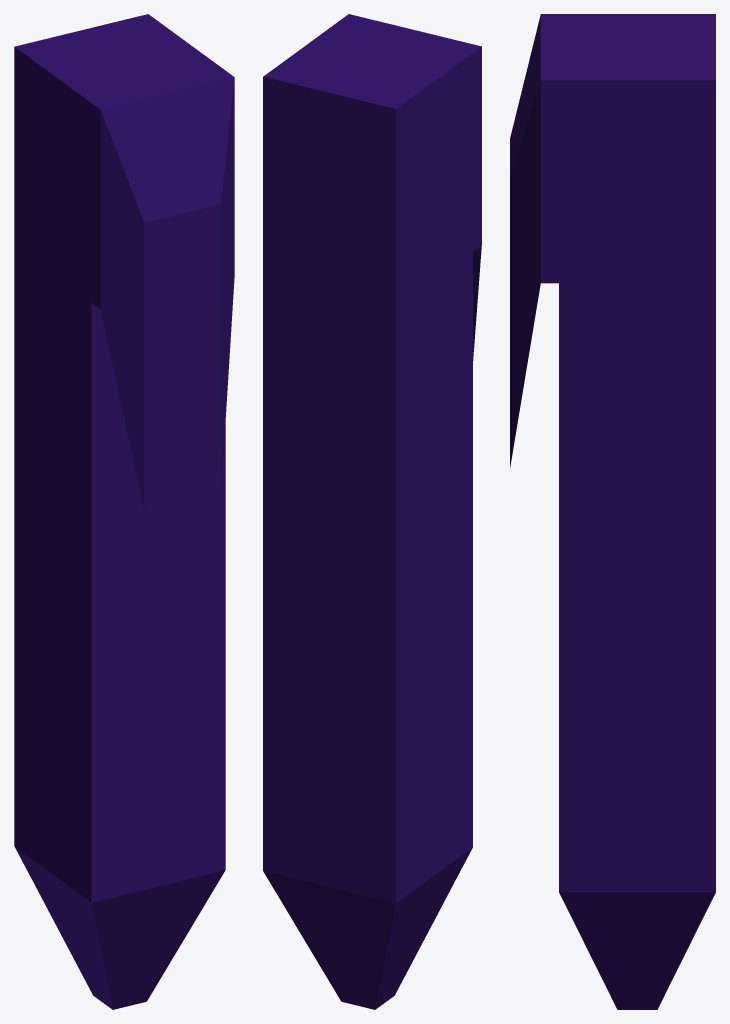
The model's file is Pen.glb.
The picture shows the model from 3 angles, left to right: view 1: azimuth 30°, elevation 25°; view 2: azimuth 150°, elevation 25°; view 3: azimuth 270°, elevation 25°; orthographic projection. The views are drawn at different scales.
Parts seen in each view (by area): view 1: Cube; view 2: Cube; view 3: Cube.
Part boxes in pixels (x1,y1,x2,y2): Cube: (14, 14, 234, 1009); Cube: (263, 14, 481, 1009); Cube: (510, 14, 715, 1009).
Bounding box in the file's own units: 0.085 × 0.5701 × 0.1115.
